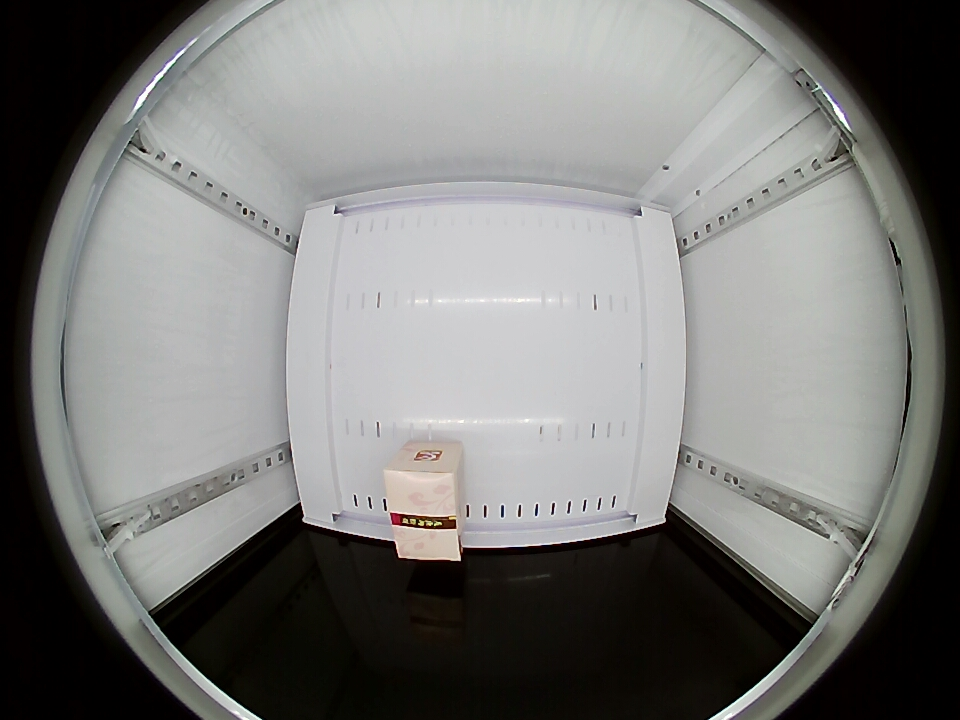rousongbing: (384, 449, 463, 562)
